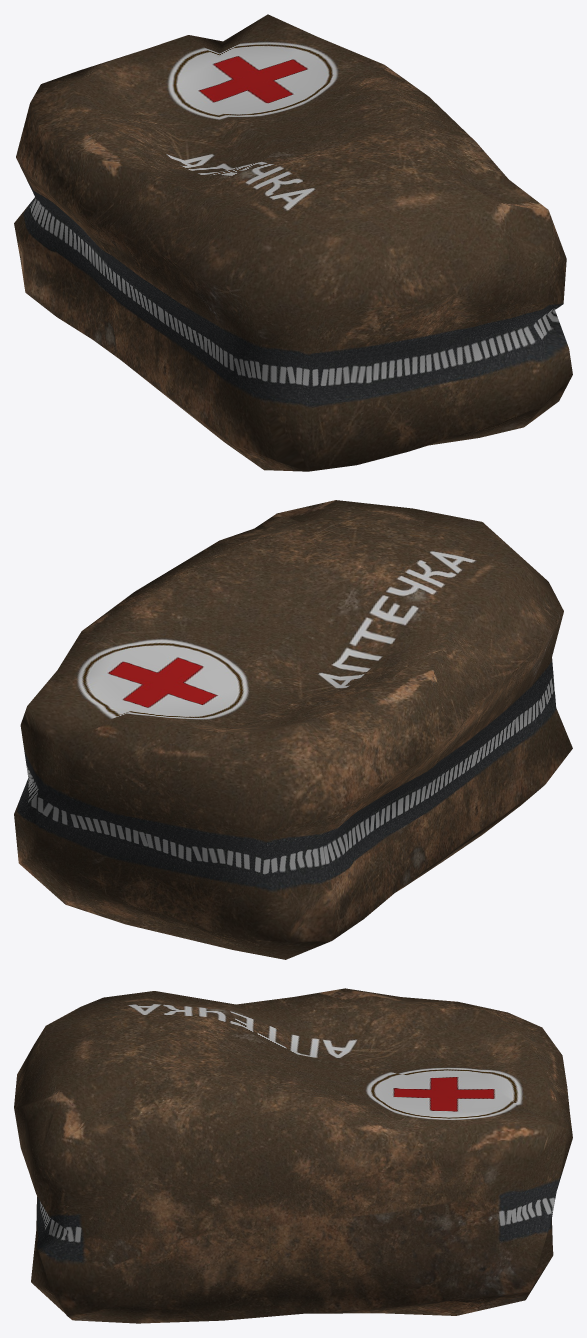
File: soviet_medical_kit.glb
3 renders of one model, top to bottom at view 1: azimuth 30°, elevation 25°; view 2: azimuth 150°, elevation 25°; view 3: azimuth 270°, elevation 25°, orthographic. The views are drawn at different scales.
Visible parts, largest first — view 1: Group16616; view 2: Group16616; view 3: Group16616.
Boxes of the visible parts, bbox=[...] form: Group16616: bbox=[14, 14, 572, 471]; Group16616: bbox=[14, 500, 572, 959]; Group16616: bbox=[14, 988, 572, 1323].
Size of the model in its own units: 1.27 by 0.9354 by 2.
Materials: 1 (1 with a texture image).
